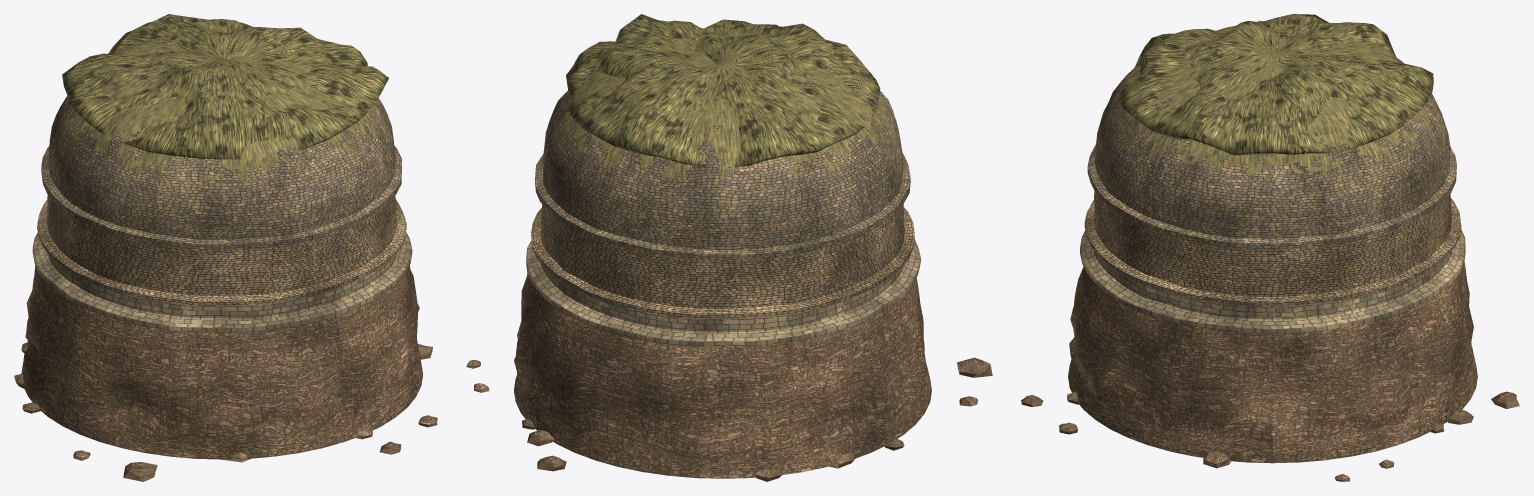
The model's file is shingardar-stupa.glb.
3 views of the same model, side by side, from view 1: azimuth 30°, elevation 25°; view 2: azimuth 150°, elevation 25°; view 3: azimuth 270°, elevation 25° (orthographic). The views are drawn at different scales.
Visible parts, largest first — view 1: shingardar-stupa_lathe, shingardar-stupa_grass, shingardar-stupa_blocks; view 2: shingardar-stupa_lathe, shingardar-stupa_grass, shingardar-stupa_blocks; view 3: shingardar-stupa_lathe, shingardar-stupa_grass, shingardar-stupa_blocks.
Boxes of the visible parts, <box> form: shingardar-stupa_lathe: <box>21,37,422,459</box>; shingardar-stupa_grass: <box>62,14,388,159</box>; shingardar-stupa_blocks: <box>14,342,437,481</box>; shingardar-stupa_lathe: <box>514,29,931,478</box>; shingardar-stupa_grass: <box>566,14,880,166</box>; shingardar-stupa_blocks: <box>466,357,992,481</box>; shingardar-stupa_lathe: <box>1068,24,1477,463</box>; shingardar-stupa_grass: <box>1117,14,1433,155</box>; shingardar-stupa_blocks: <box>1021,391,1519,481</box>.
Bounding box in the file's own units: 24.28 × 18.58 × 25.32.
3 materials, 3 textured.
